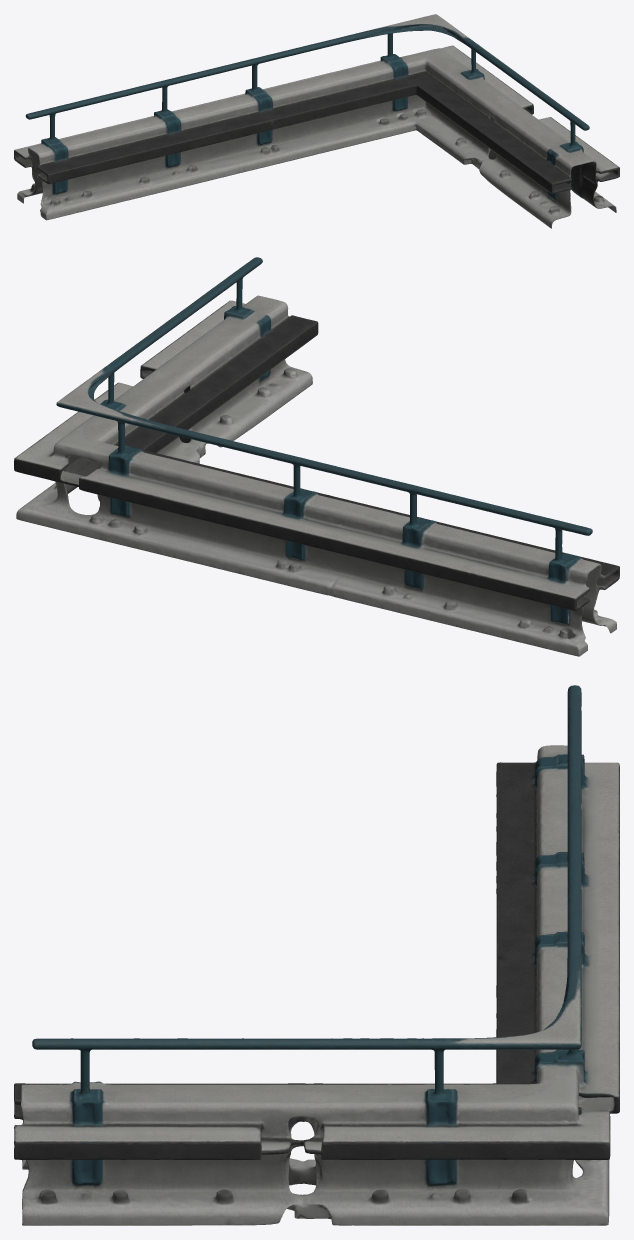
File: Meshy_AI_Industrial_Corner_Gua_1023154814_texture.glb
3 renders of one model, top to bottom at view 1: azimuth 30°, elevation 25°; view 2: azimuth 150°, elevation 25°; view 3: azimuth 270°, elevation 25°, orthographic. The views are drawn at different scales.
Bounding box in the file's own units: 1.9 × 0.3811 × 1.28.
1 material, 1 textured.
